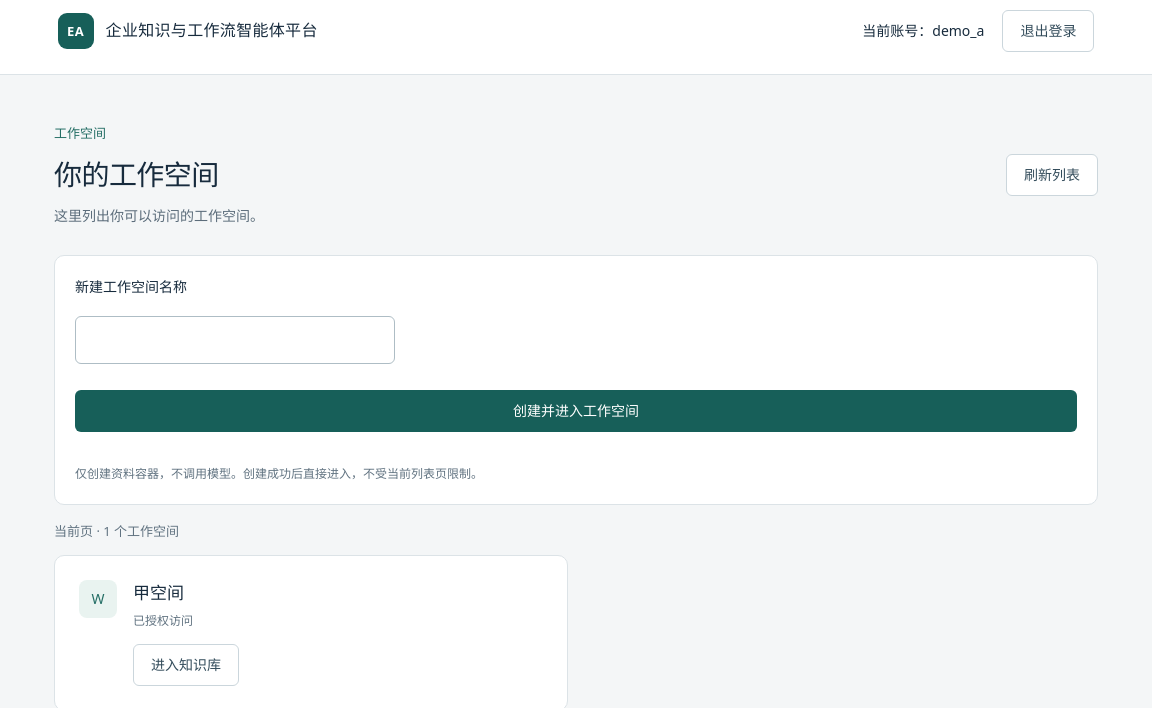
Test case: 独立引用问答页的排错编号 › POST 409 在安全错误下显示响应头编号，不读取错误正文或自动重发
Click the button with aria-label "进入甲空间": x=186, y=665 x1=133 y1=644 x2=239 y2=686
(page scrolled)
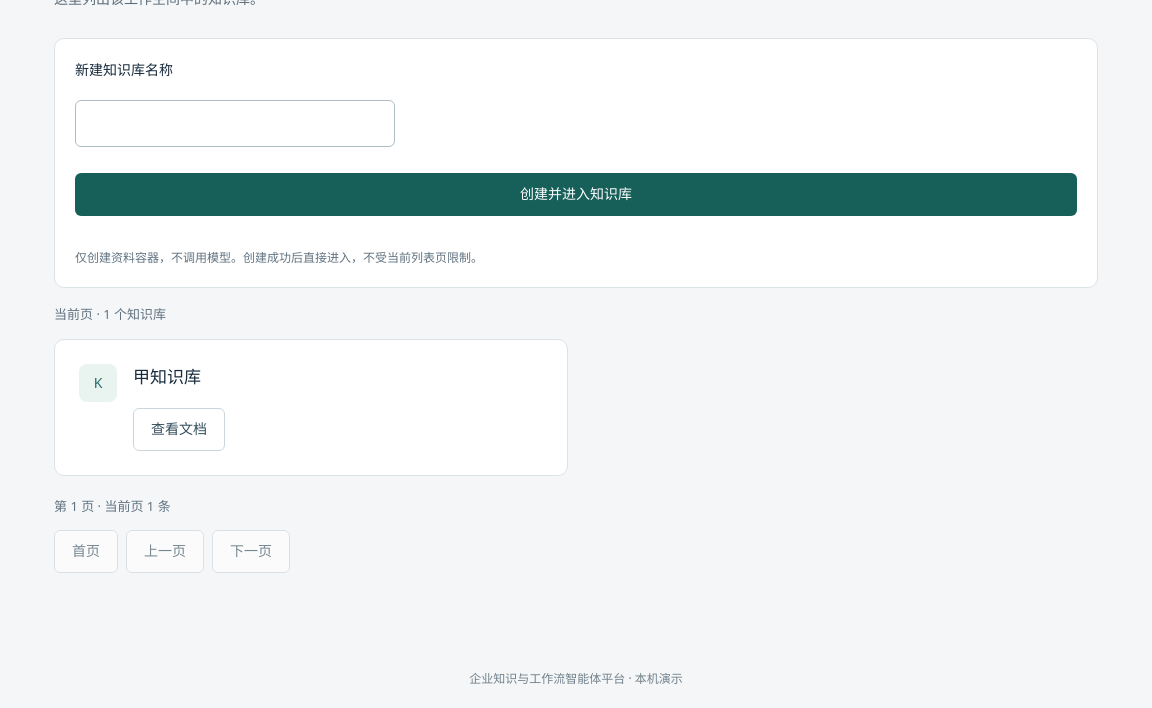
Click the button with aria-label "查看甲知识库的文档": x=179, y=429 x1=133 y1=408 x2=225 y2=451
(page scrolled)
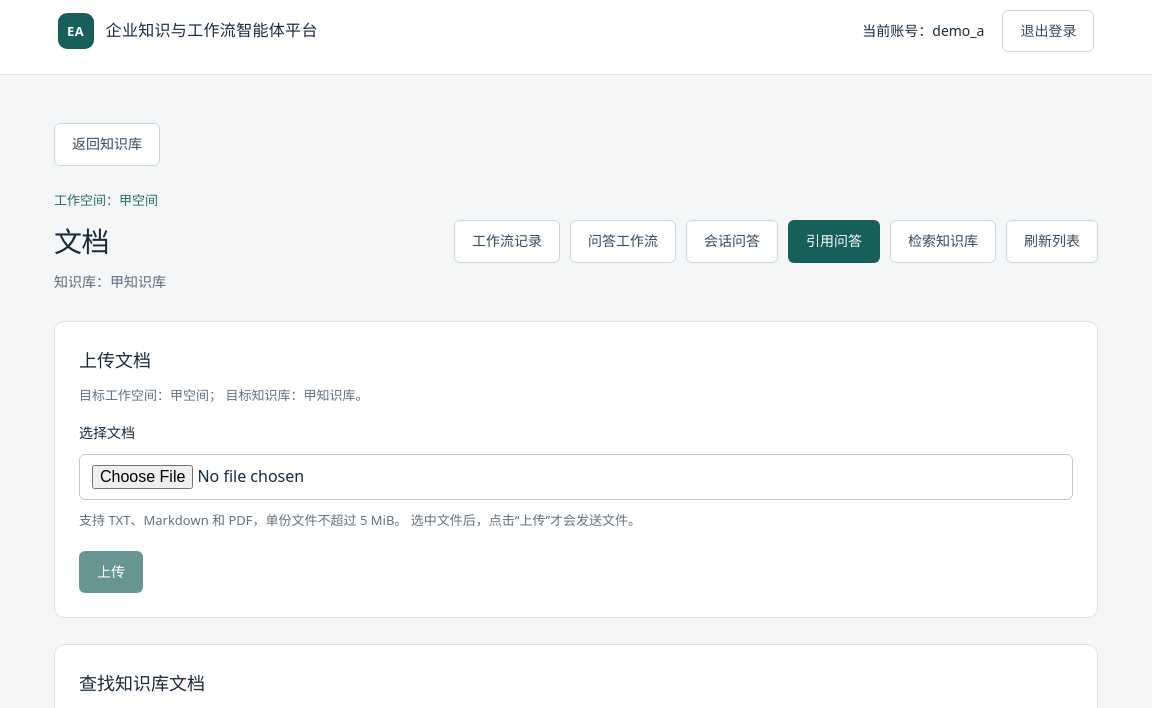
Click the button "引用问答": x=834, y=242 x1=788 y1=220 x2=880 y2=263
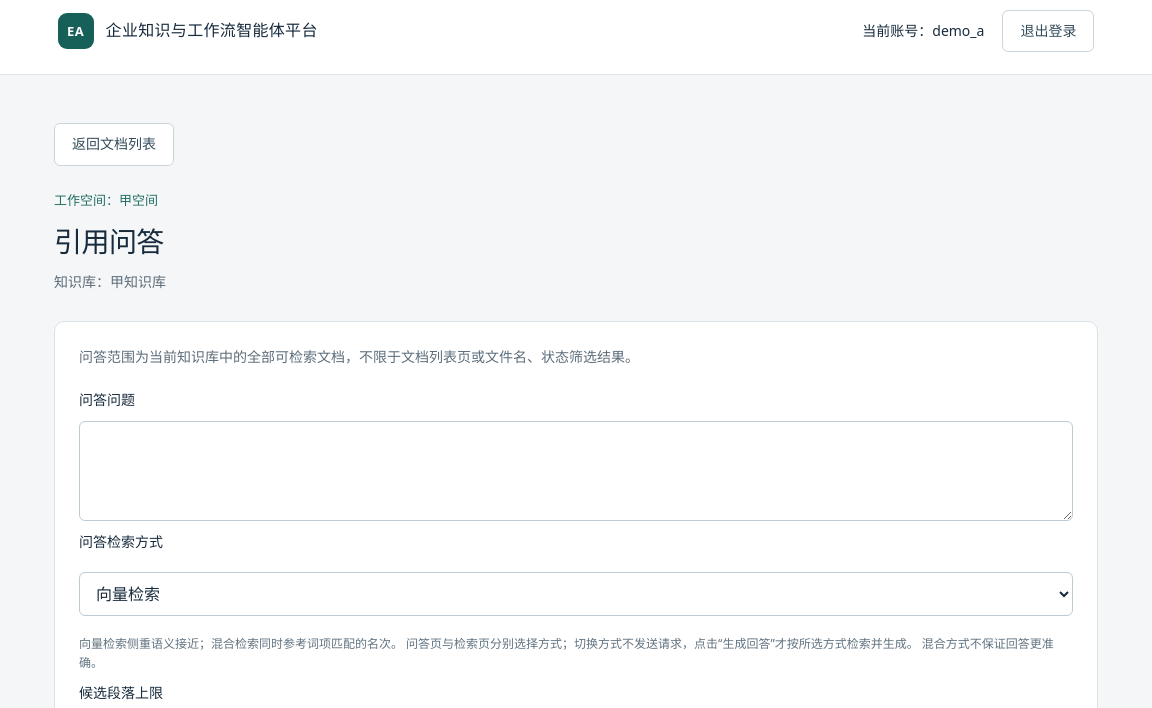
In the text box labelled "问答问题": x=576, y=471 x1=79 y1=421 x2=1073 y2=521, type "导出条目包含什么？"
(page scrolled)
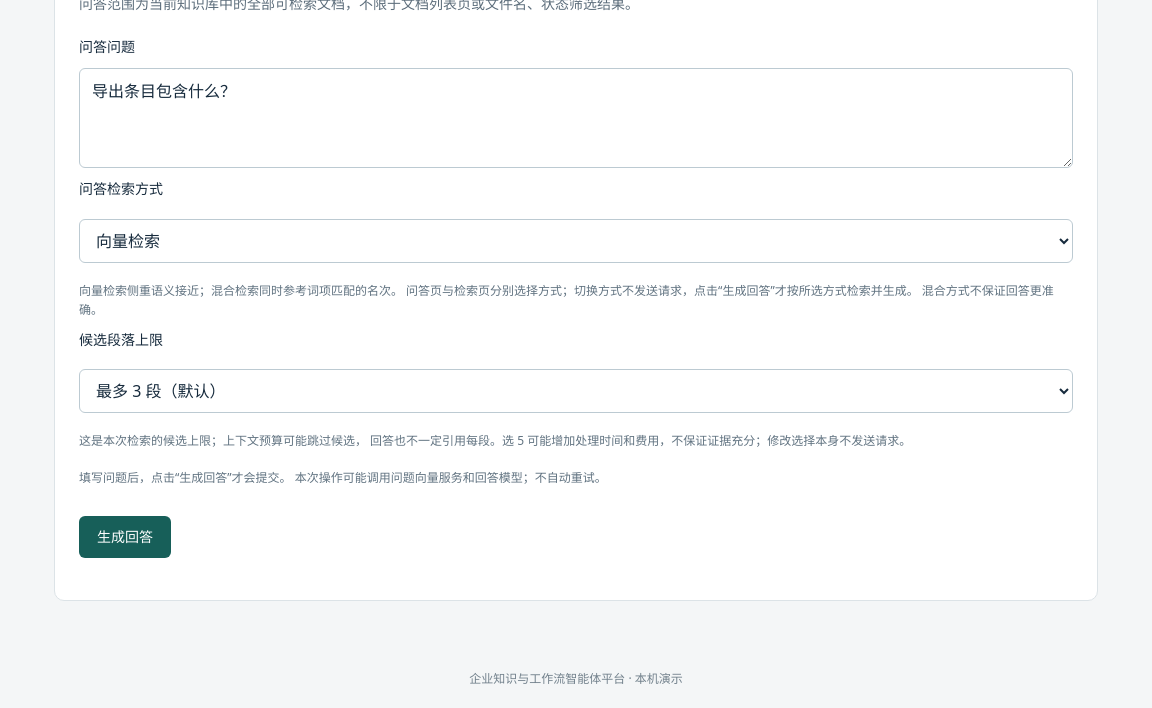
Click the button "生成回答": x=125, y=537 x1=79 y1=516 x2=171 y2=558
Wait 30000 ms
(page scrolled)
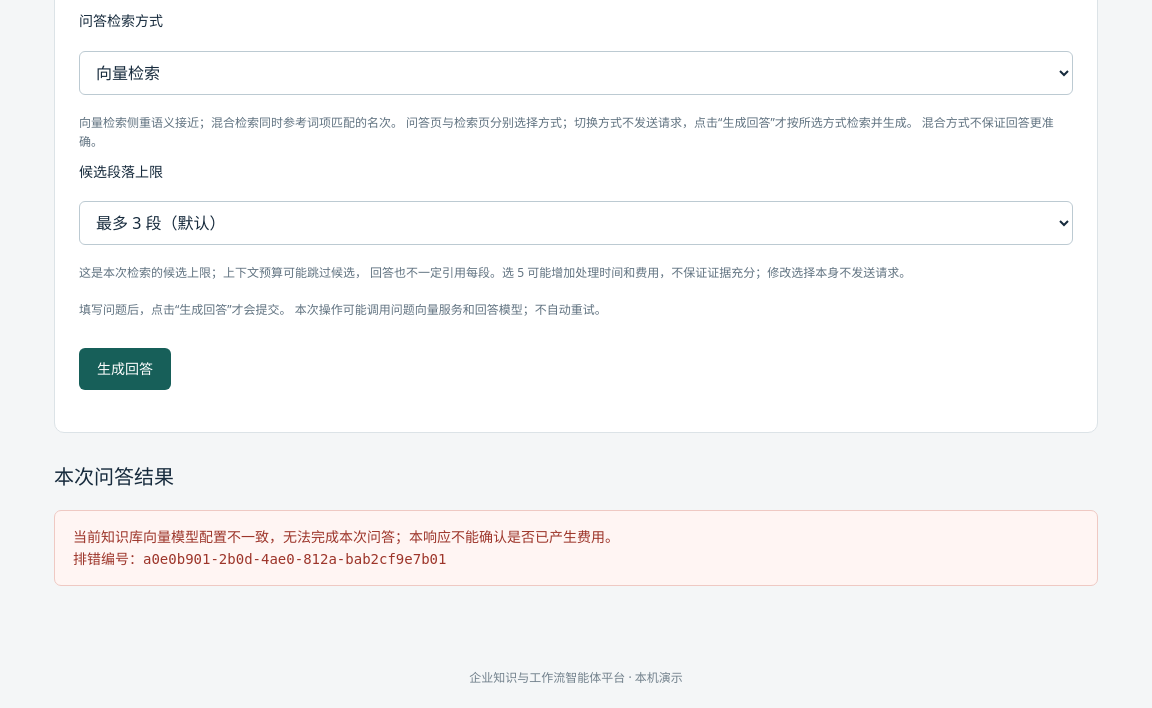
expect the message is shown: met, box x1=54 y1=510 x2=1098 y2=586
expect the text "排错编号：" is shown: met, box x1=73 y1=549 x2=143 y2=568
